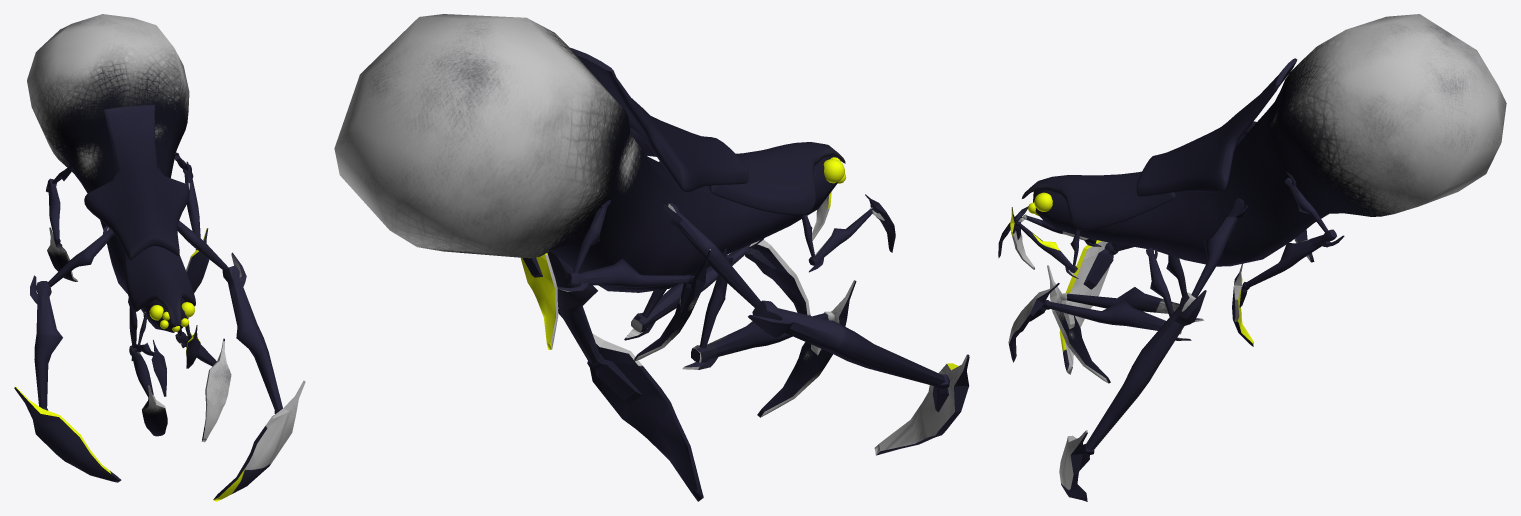
The model's file is alien.obj.
3 views of the same model, side by side, from view 1: azimuth 30°, elevation 25°; view 2: azimuth 150°, elevation 25°; view 3: azimuth 270°, elevation 25° (orthographic). The views are drawn at different scales.
Visible parts, largest first — view 1: pCube1; view 2: pCube1; view 3: pCube1.
Boxes of the visible parts, x1,y1,x2,y2 form: pCube1: (14, 14, 305, 501); pCube1: (334, 14, 969, 501); pCube1: (998, 14, 1506, 501).
Bounding box in the file's own units: 396 × 531 × 504.
Materials: 1 (1 with a texture image).
